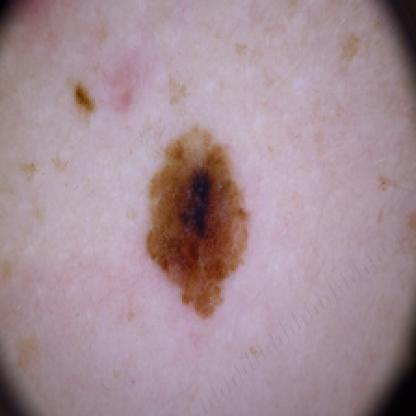benign: (141, 122, 266, 318)
